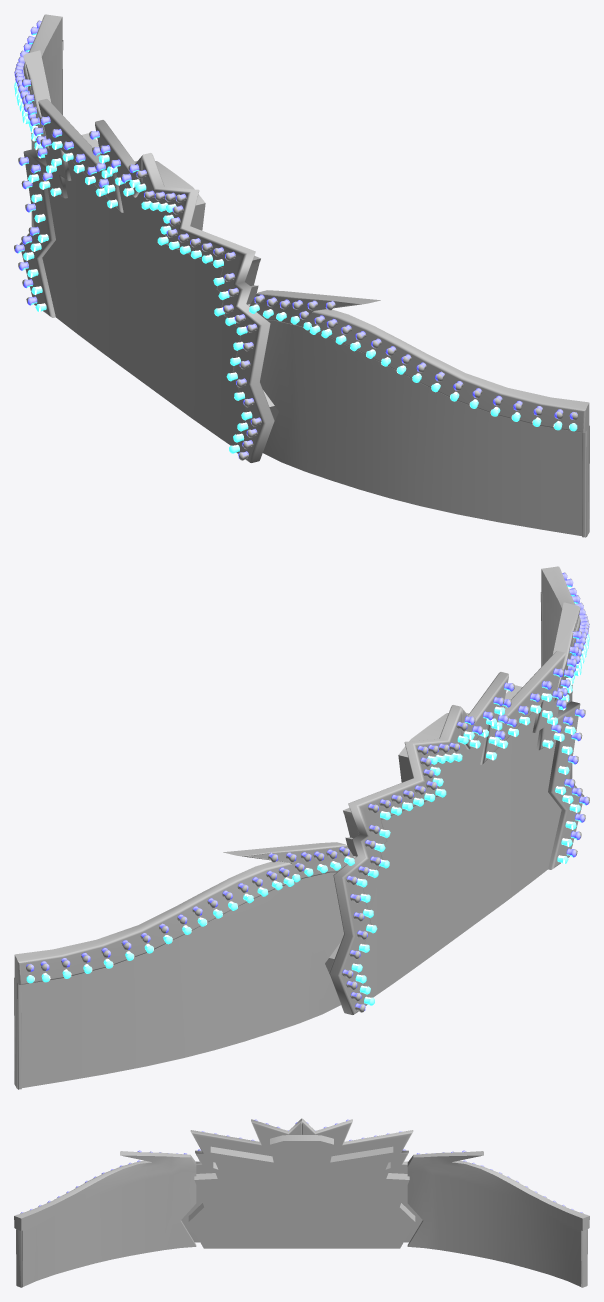
File: SM_BannerDesign.fbx
3 renders of one model, top to bottom at view 1: azimuth 30°, elevation 25°; view 2: azimuth 150°, elevation 25°; view 3: azimuth 270°, elevation 25°, orthographic. The views are drawn at different scales.
Parts seen in each view (by area): view 1: SM_BannerDesign_LOD0; view 2: SM_BannerDesign_LOD0; view 3: SM_BannerDesign_LOD0.
Boxes of the visible parts, x1,y1,x2,y2 form: SM_BannerDesign_LOD0: (14, 14, 589, 537); SM_BannerDesign_LOD0: (14, 566, 589, 1089); SM_BannerDesign_LOD0: (14, 1118, 589, 1287).
Size of the model in its own units: 286 by 1387 by 325.
